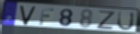8: (78, 9, 94, 30), (59, 9, 74, 28)
F: (38, 7, 56, 26)
U: (116, 11, 136, 32)
V: (20, 5, 38, 26)
Z: (96, 10, 117, 30)
